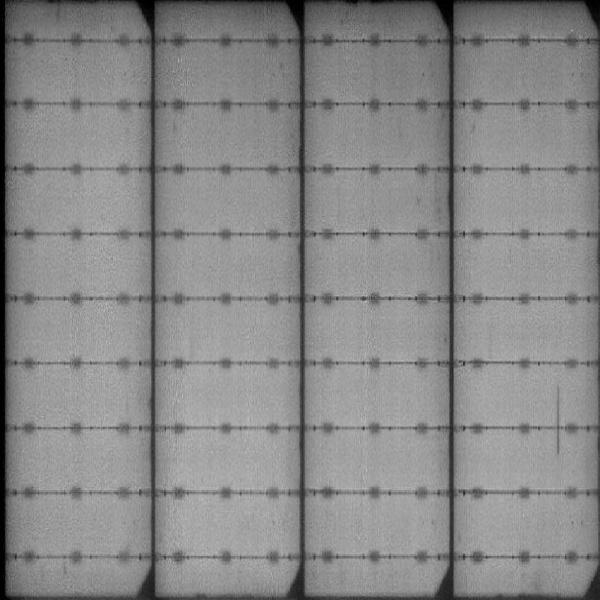scratch: (554, 388, 564, 456)
